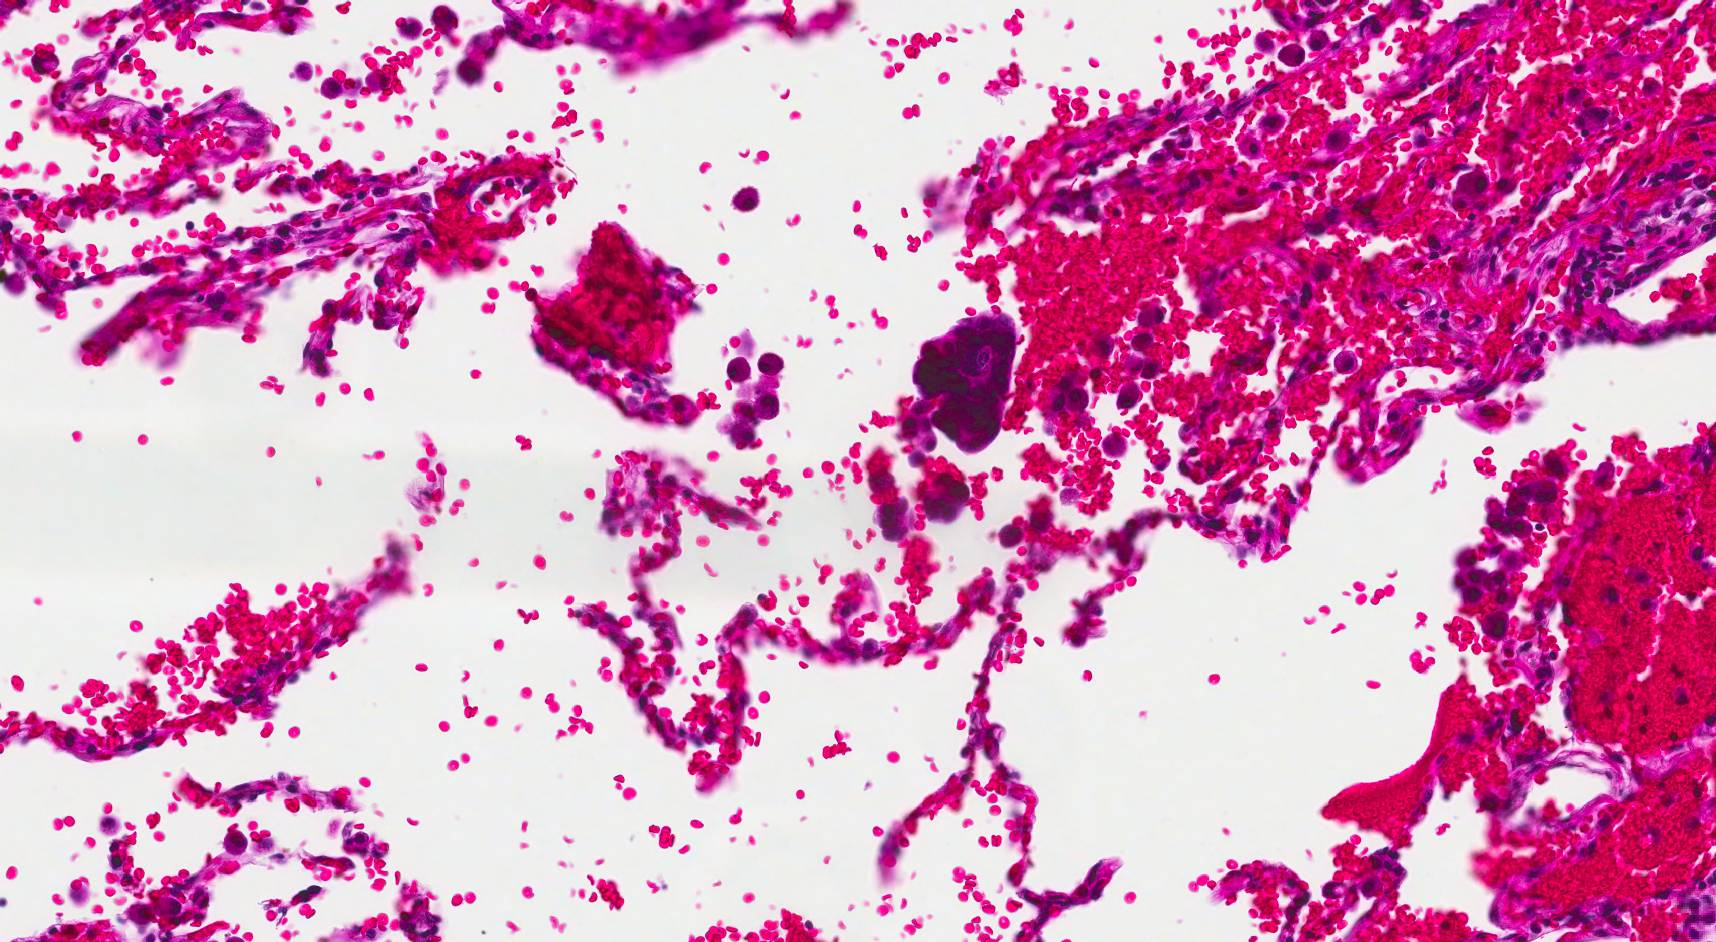stas: (910, 310, 1013, 452)
